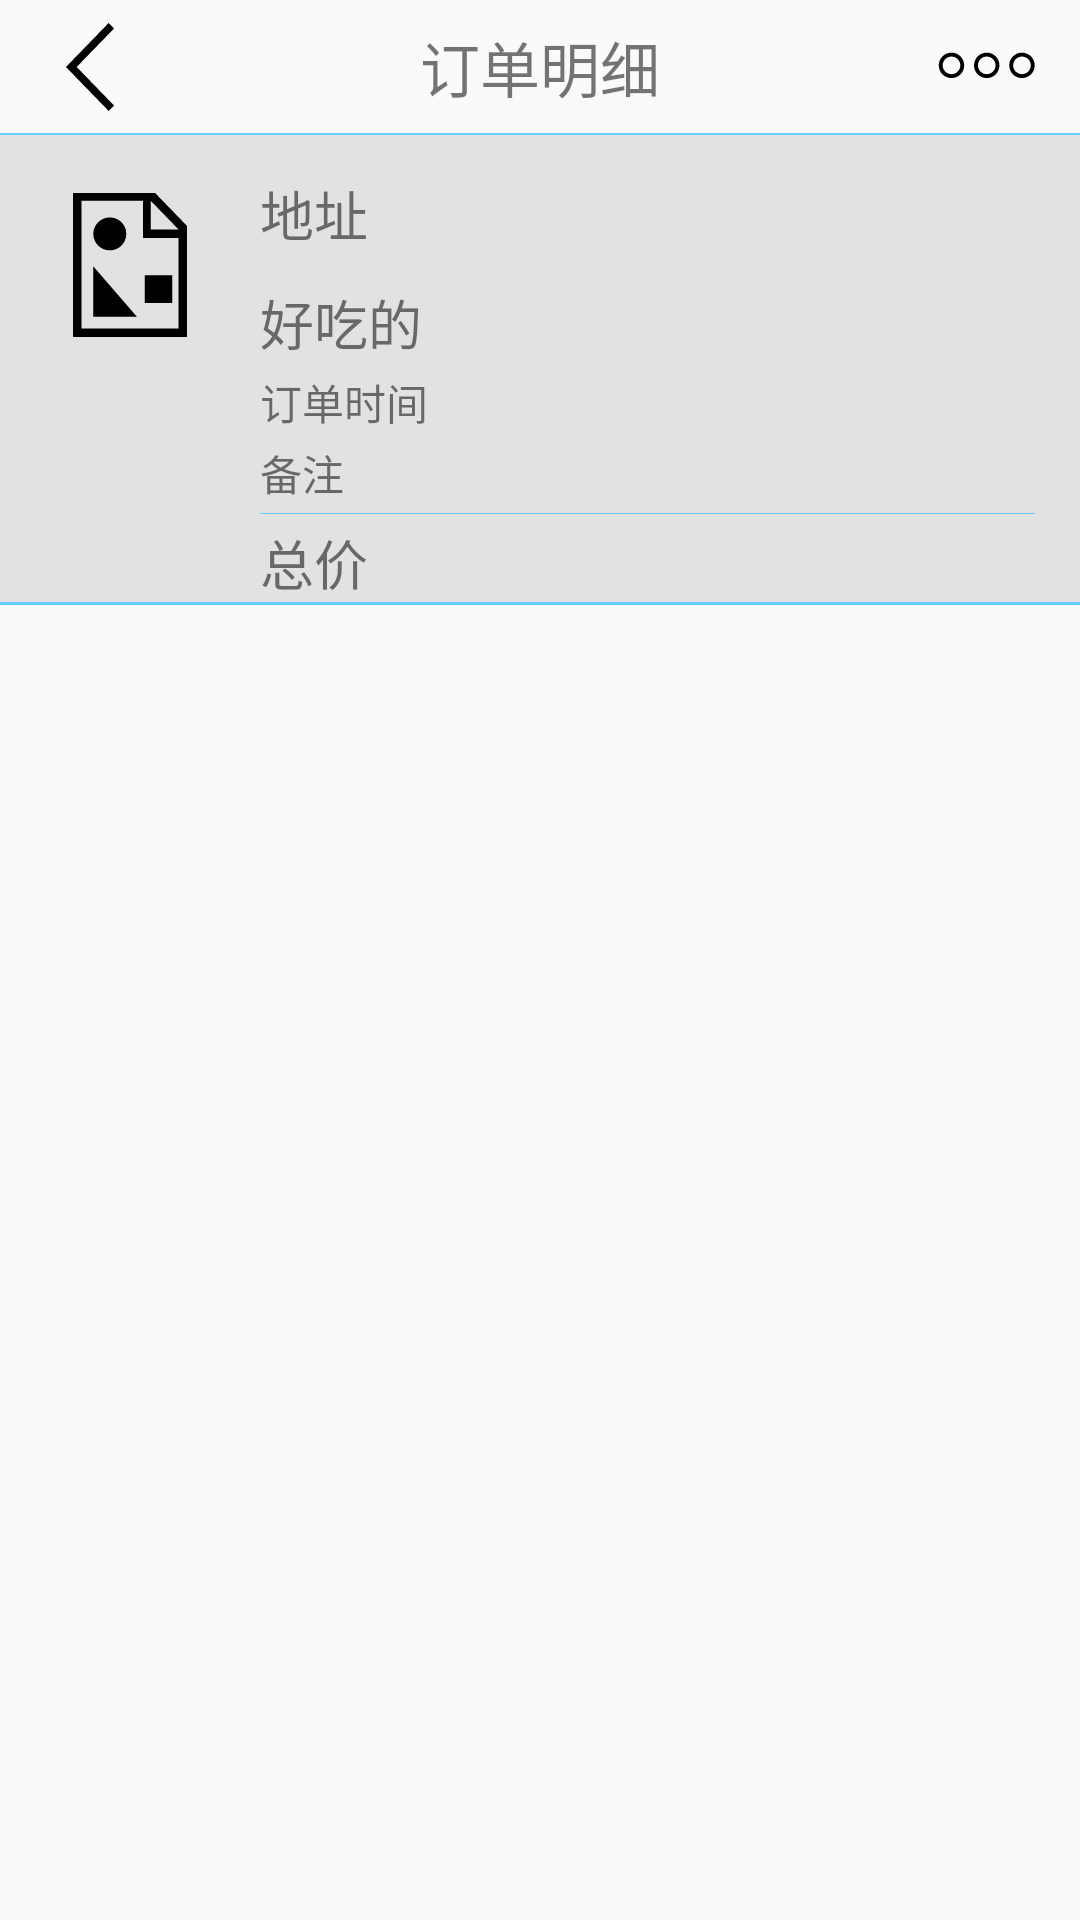

Icon click points for this 1080x1920 phone screenshot, format [x,y]:
back: [90,67]
more: [986,65]
